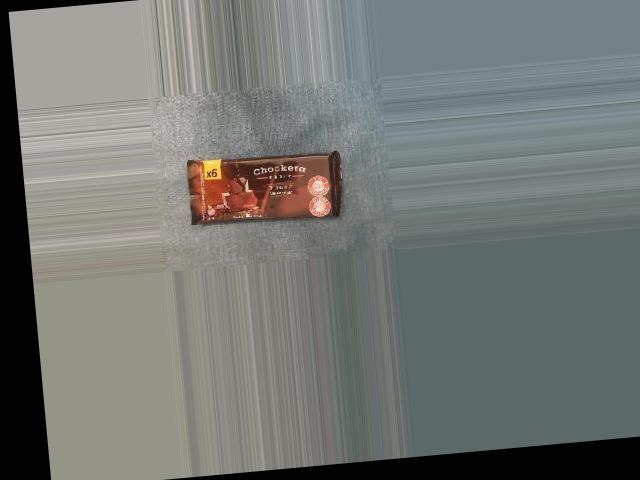chocolate: (183, 135, 344, 239)
